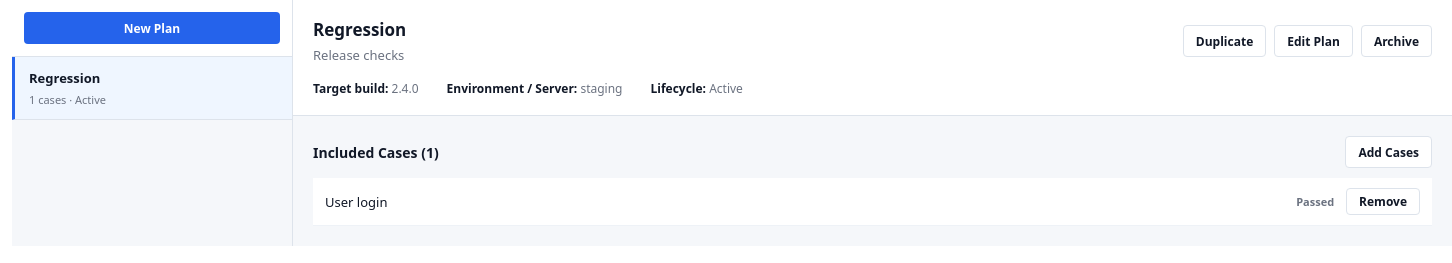
Test: removing a case updates only plan membership and keeps the Test Case itself
What coordinates should you click on to do the following:
click the button with aria-label "Remove User login"
I would click on:
 (1383, 202)
Its box is left=1346, top=188, right=1420, bottom=215.
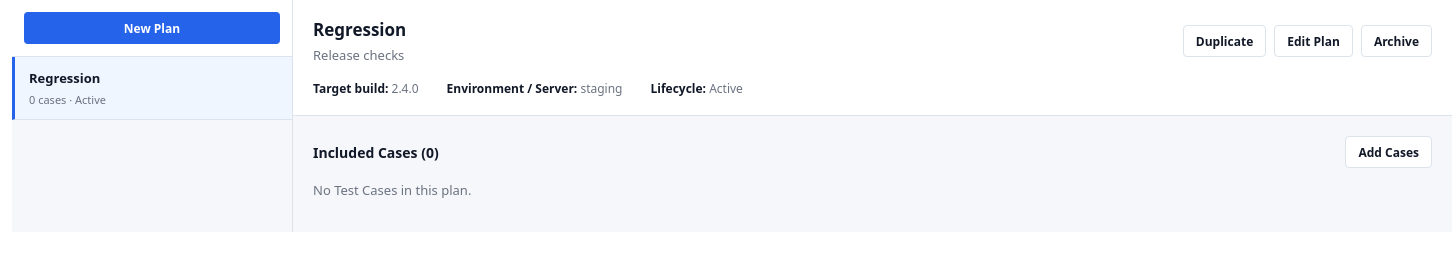
Now the text "No Test Cases in this plan." is shown, box left=313, top=181, right=471, bottom=199
